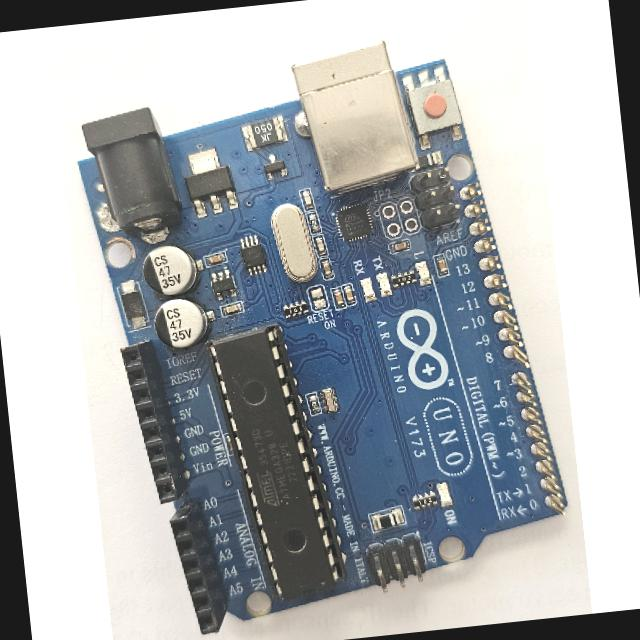missing_digital_pins: (455, 176, 574, 522)
